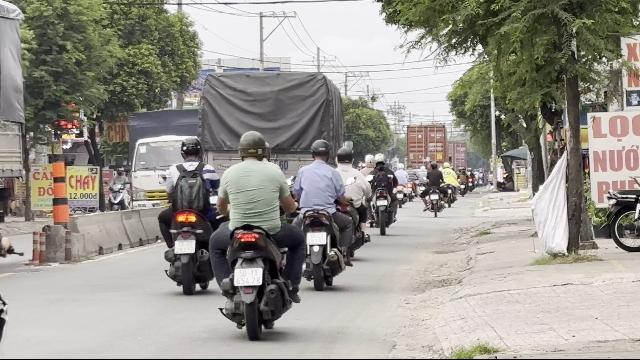helmet: (236, 130, 268, 160), (178, 136, 202, 160), (309, 138, 331, 162), (335, 145, 353, 165)
licenseplate: (234, 268, 262, 286), (175, 240, 195, 254), (306, 231, 326, 244)
motorcyclist: (208, 128, 304, 338), (156, 134, 218, 294), (290, 138, 356, 288), (332, 141, 370, 257)
